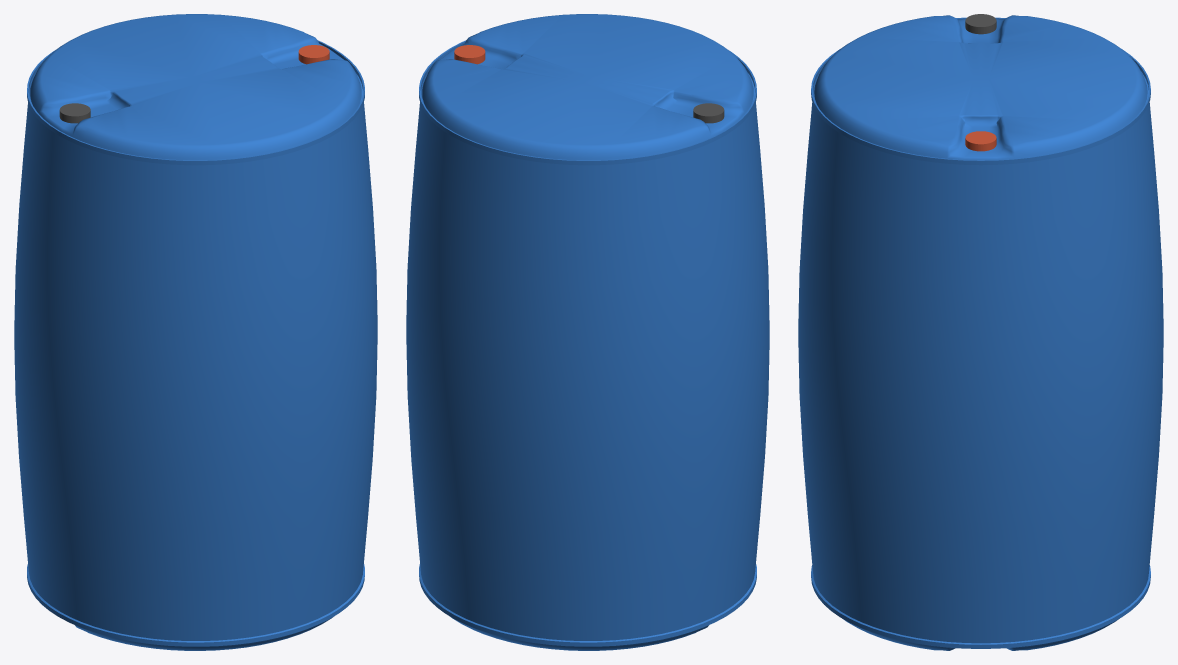
3 renders of one model, left to right at view 1: azimuth 30°, elevation 25°; view 2: azimuth 150°, elevation 25°; view 3: azimuth 270°, elevation 25°, orthographic.
Visible parts, largest first — view 1: Cylinder, Cylinder_001; view 2: Cylinder, Cylinder_001; view 3: Cylinder, Cylinder_001, Cylinder_002.
Boxes of the visible parts, bbox=[...] form: Cylinder: bbox=[14, 14, 377, 650]; Cylinder_001: bbox=[59, 103, 90, 123]; Cylinder: bbox=[406, 14, 769, 650]; Cylinder_001: bbox=[693, 103, 724, 123]; Cylinder: bbox=[798, 15, 1163, 650]; Cylinder_001: bbox=[965, 14, 996, 34]; Cylinder_002: bbox=[965, 131, 996, 151].
Size of the model in its own units: 0.6 by 0.6 by 0.92.
